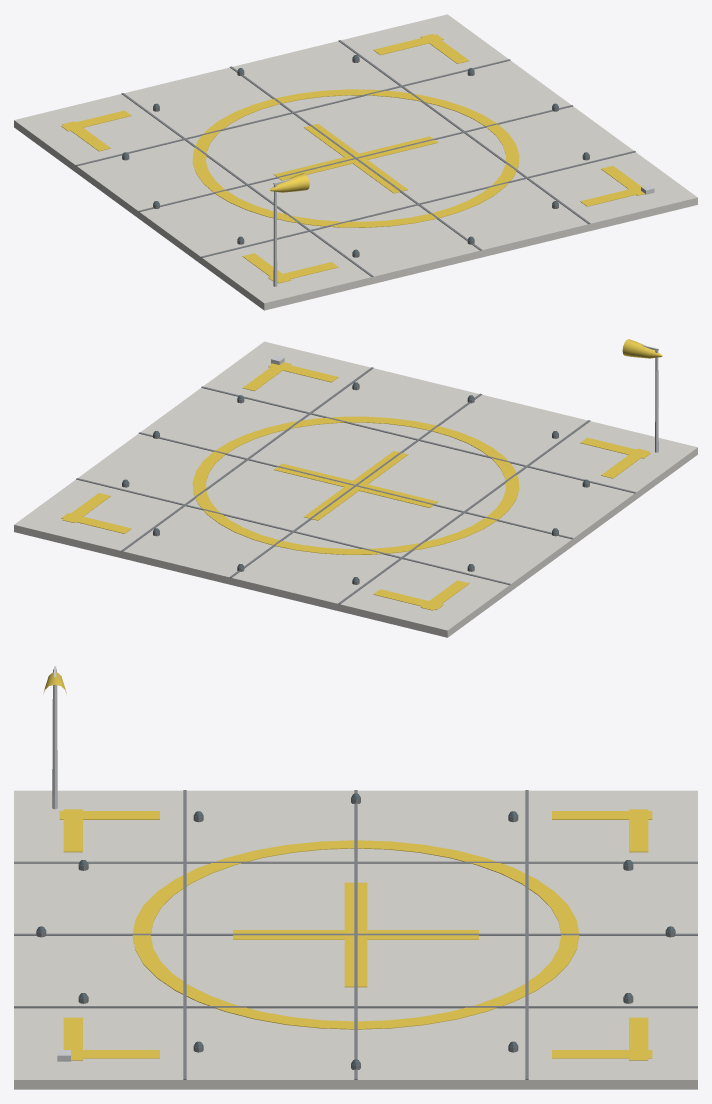
File: cold-war-missile-silo-and-command-bunker-helipad-marki-89cd69b2.glb
3 renders of one model, top to bottom at view 1: azimuth 30°, elevation 25°; view 2: azimuth 150°, elevation 25°; view 3: azimuth 270°, elevation 25°, orthographic. The views are drawn at different scales.
Visible parts, largest first — view 1: helipad-marking-slab; view 2: helipad-marking-slab; view 3: helipad-marking-slab.
Boxes of the visible parts, <box> form: helipad-marking-slab: <box>14,14,697,310</box>; helipad-marking-slab: <box>14,339,697,637</box>; helipad-marking-slab: <box>14,666,697,1089</box>.
Bounding box in the file's own units: 15 × 3.71 × 15.
